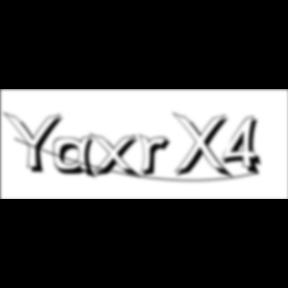4: (222, 115, 268, 179)
X: (172, 112, 236, 182)
Y: (2, 110, 70, 176)
a: (54, 135, 102, 182)
r: (139, 134, 177, 180)
x: (90, 132, 144, 181)
